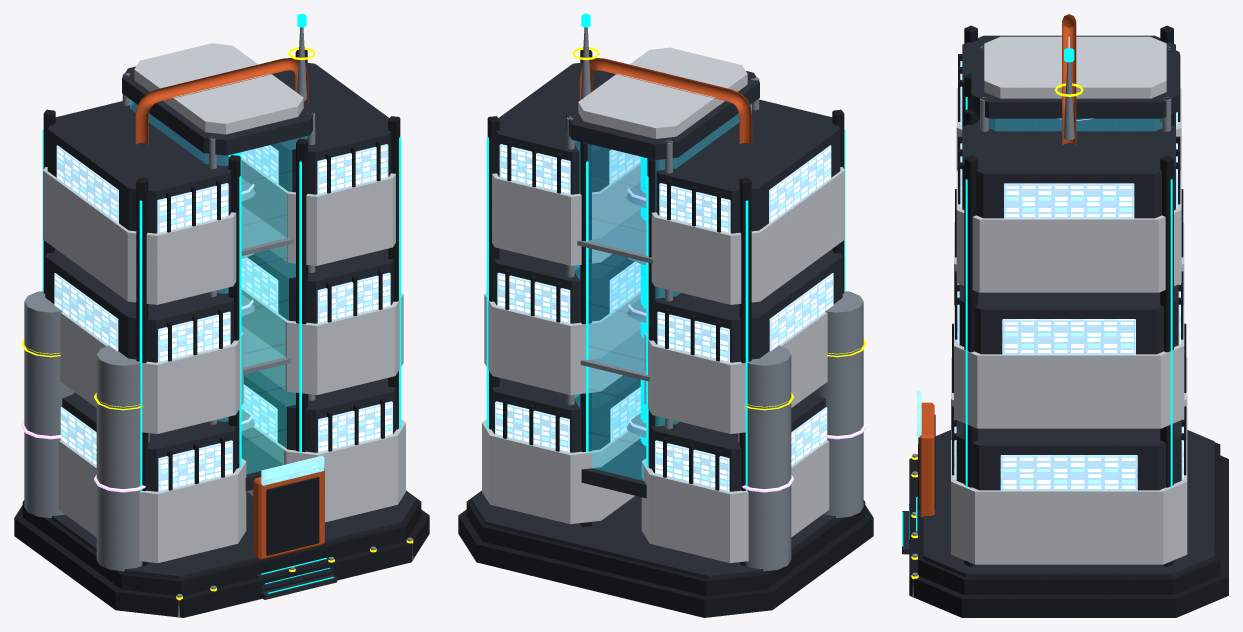
Rendered from bldg_19_r1_03.glb.
3 renders of one model, left to right at view 1: azimuth 30°, elevation 25°; view 2: azimuth 150°, elevation 25°; view 3: azimuth 270°, elevation 25°, orthographic. The views are drawn at different scales.
Parts seen in each view (by area): view 1: Bldg19_C03_aero_white, Bldg19_C03_carbon_slate, Bldg19_C03_gunmetal, Bldg19_C03_window_lit, Bldg19_C03_steel_machined, Bldg19_C03_glass_cyan, Bldg19_C03_accent_orange, Bldg19_C03_led_cyan, Bldg19_C03_marquee, Bldg19_C03_led_amber; view 2: Bldg19_C03_aero_white, Bldg19_C03_carbon_slate, Bldg19_C03_gunmetal, Bldg19_C03_steel_machined, Bldg19_C03_window_lit, Bldg19_C03_glass_cyan, Bldg19_C03_led_cyan, Bldg19_C03_accent_orange, Bldg19_C03_led_uv; view 3: Bldg19_C03_aero_white, Bldg19_C03_carbon_slate, Bldg19_C03_gunmetal, Bldg19_C03_window_lit, Bldg19_C03_accent_orange, Bldg19_C03_led_cyan, Bldg19_C03_glass_cyan, Bldg19_C03_steel_machined.
Boxes of the visible parts, box(x1,y1,x2,y2) form: Bldg19_C03_aero_white: box(43, 43, 405, 563); Bldg19_C03_carbon_slate: box(45, 62, 416, 599); Bldg19_C03_gunmetal: box(14, 50, 429, 617); Bldg19_C03_window_lit: box(54, 144, 392, 491); Bldg19_C03_steel_machined: box(24, 27, 413, 617); Bldg19_C03_glass_cyan: box(130, 99, 306, 473); Bldg19_C03_accent_orange: box(135, 58, 324, 559); Bldg19_C03_led_cyan: box(42, 14, 401, 593); Bldg19_C03_marquee: box(261, 456, 324, 485); Bldg19_C03_led_amber: box(21, 47, 413, 600); Bldg19_C03_aero_white: box(482, 47, 844, 563); Bldg19_C03_carbon_slate: box(471, 62, 842, 579); Bldg19_C03_gunmetal: box(458, 50, 873, 617); Bldg19_C03_steel_machined: box(566, 27, 863, 571); Bldg19_C03_window_lit: box(495, 144, 833, 491); Bldg19_C03_glass_cyan: box(574, 104, 751, 480); Bldg19_C03_led_cyan: box(486, 14, 845, 491); Bldg19_C03_accent_orange: box(579, 58, 752, 145); Bldg19_C03_led_uv: box(627, 188, 866, 492); Bldg19_C03_aero_white: box(951, 36, 1187, 564); Bldg19_C03_carbon_slate: box(902, 35, 1214, 576); Bldg19_C03_gunmetal: box(909, 25, 1228, 617); Bldg19_C03_window_lit: box(954, 61, 1183, 490); Bldg19_C03_accent_orange: box(919, 14, 1076, 517); Bldg19_C03_led_cyan: box(902, 48, 1172, 546); Bldg19_C03_glass_cyan: box(989, 119, 1161, 130); Bldg19_C03_steel_machined: box(912, 46, 1171, 597).
Bounding box in the file's own units: 12.12 × 18.22 × 10.23.
11 materials, 11 textured.
